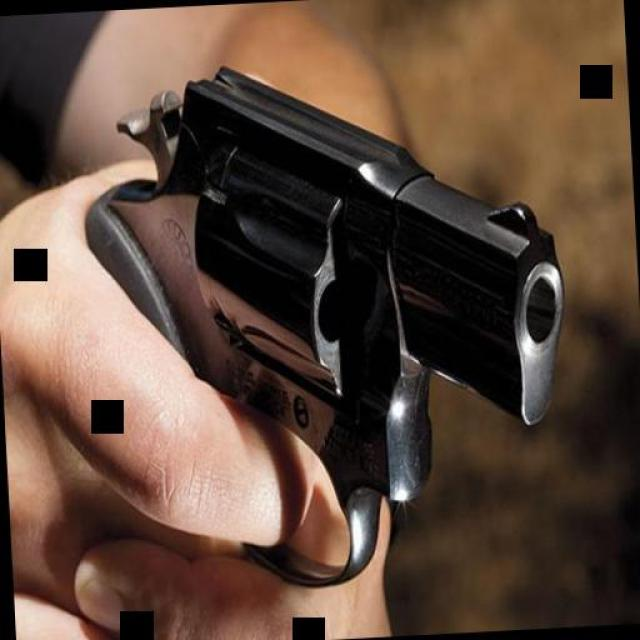gun: (61, 39, 579, 600)
